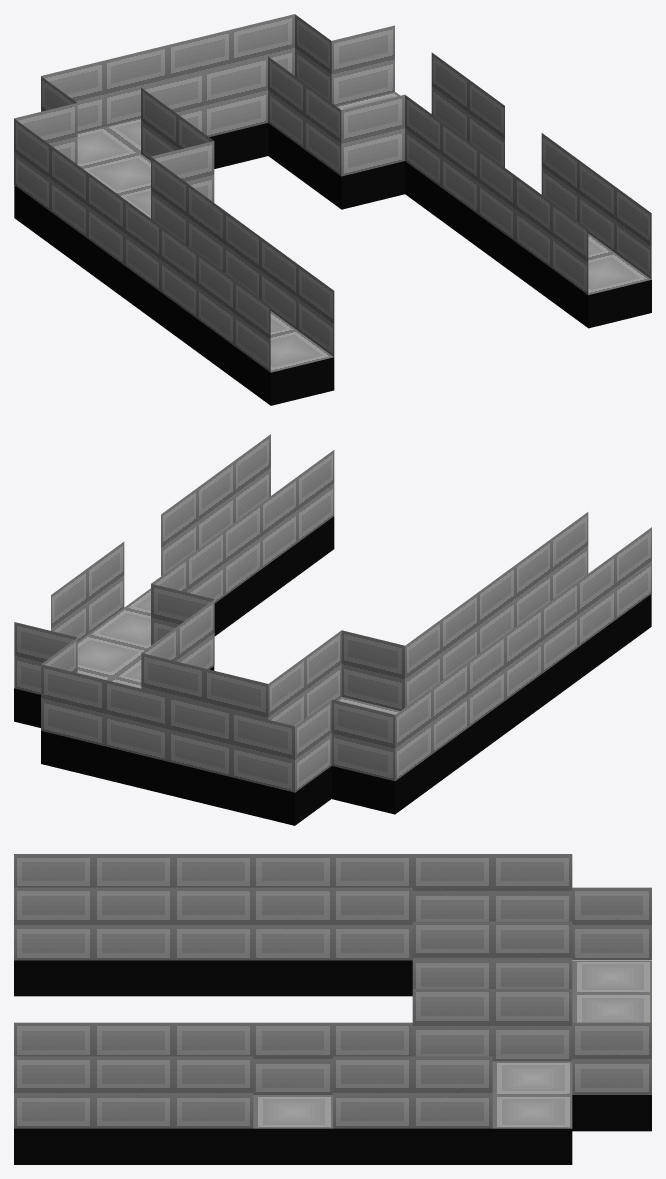
File: Mpath.gltf
3 views of the same model, one above another, from view 1: azimuth 30°, elevation 25°; view 2: azimuth 150°, elevation 25°; view 3: azimuth 270°, elevation 25° (orthographic). The views are drawn at different scales.
Parts seen in each view (by area): view 1: Mpath; view 2: Mpath; view 3: Mpath.
Boxes of the visible parts, x1=… form: Mpath: x1=14, y1=14, x2=651, y2=405; Mpath: x1=14, y1=434, x2=651, y2=825; Mpath: x1=14, y1=854, x2=651, y2=1164.
Bounding box in the file's own units: 12.01 × 3 × 16.
Materials: 2 (1 with a texture image).
